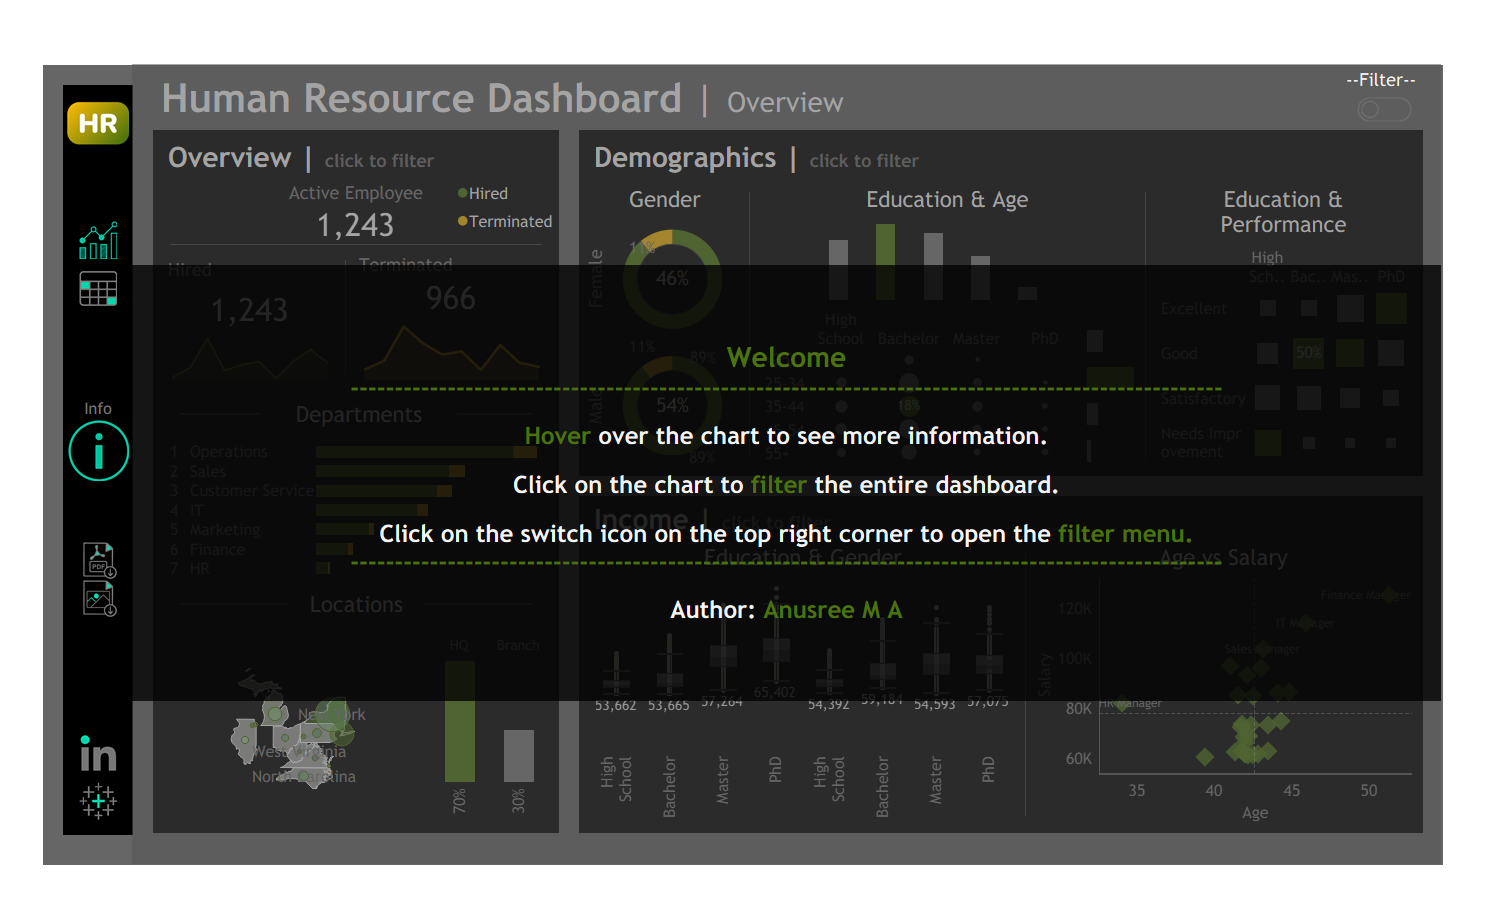

The dashboard page shown, as its layout file describes it:
{"tool":"tableau","page":{"name":"HR","canvas":[1400,800],"ordinal":0},"visuals":[{"type":"text","box":[110,0,823,65]},{"type":"blank","box":[933,0,447,65]},{"type":"text","box":[1299,0,100,30]},{"type":"filter","title":"Gender vs education ","param":"[federated.0q2gh4h1n235b5190az610rpepij].[none:Gender:nk]","box":[930,2,112,58]},{"type":"filter","title":"Gender vs education ","param":"[federated.0q2gh4h1n235b5190az610rpepij].[none:Calculation_1044828008271874:nk]","box":[1042,2,111,58]},{"type":"filter","title":"Gender vs education ","param":"[federated.0q2gh4h1n235b5190az610rpepij].[none:Calculation_1919764739563520:nk]","box":[1153,2,111,58]},{"type":"filter","title":"Gender vs education ","param":"[federated.0q2gh4h1n235b5190az610rpepij].[yr:Hiredate:ok]","box":[1264,2,111,58]},{"type":"image","param":"Image/croatia.png","box":[20,20,70,76]},{"type":"dashboard-object","box":[1313,23,56,44]},{"type":"text","box":[117,72,392,41]},{"type":"text","box":[543,72,830,40]},{"type":"blank","box":[20,96,70,60]},{"type":"text","box":[409,104,120,72]},{"type":"text","box":[117,113,392,29]},{"type":"text","box":[543,117,158,34]},{"type":"blank","box":[706,117,1,287]},{"type":"text","box":[712,117,385,34]},{"type":"blank","box":[1102,117,1,287]},{"type":"text","box":[1108,117,265,60]},{"type":"worksheet","title":"Total Active","mark":"Automatic","box":[117,142,392,37]},{"type":"worksheet","title":"Gender","mark":"Pie","rows":["Gender"],"cols":["Calculation_0624264881008641","Calculation_0624264881008641"],"box":[543,151,158,253]},{"type":"worksheet","title":"Total vs Age category","mark":"Bar","rows":["Calculation_1037131389304833"],"cols":["Calculation_0624264885260291"],"box":[712,151,385,88]},{"type":"dashboard-object","box":[20,156,70,38]},{"type":"worksheet","title":"Educational Background","mark":"Square","rows":["Performance Rating"],"cols":["Education Level"],"box":[1108,177,265,227]},{"type":"blank","box":[117,179,392,1]},{"type":"text","box":[117,185,180,40]},{"type":"blank","box":[302,185,1,135]},{"type":"text","box":[308,185,200.9,29]},{"type":"blank","box":[20,194,70,10]},{"type":"text","box":[89,200,1309,436]},{"type":"dashboard-object","box":[20,204,70,38]},{"type":"worksheet","title":"Total Terminated","mark":"Automatic","box":[308,214,200.9,39]},{"type":"worksheet","title":"Total Hired","mark":"Automatic","box":[117,225,180,41]},{"type":"worksheet","title":"Education","mark":"Circle","rows":["Calculation_0624264885260291"],"cols":["Education Level"],"box":[712,239,328,165]},{"type":"worksheet","title":"Total vs Education","mark":"Bar","rows":["Education Level"],"cols":["Calculation_1037131389304833"],"box":[1040,239,57,165]},{"type":"blank","box":[20,242,70,85]},{"type":"worksheet","title":"Terminated Trend","mark":"Line","rows":["Calculation_1037131389579266","Calculation_1037131389579266"],"cols":["Hiredate"],"box":[308,253,200.9,67]},{"type":"worksheet","title":"Hired Trend","mark":"Line","rows":["Calculation_1037131389304833","Calculation_1037131389304833"],"cols":["Hiredate"],"box":[117,266,180,54]},{"type":"text","box":[20,327,70,32]},{"type":"blank","box":[127,330,101,38]},{"type":"text","box":[228,330,176,38]},{"type":"blank","box":[404,330,95,38]},{"type":"dashboard-object","box":[25,348,61,75]},{"type":"blank","box":[20,359,70,107]},{"type":"worksheet","title":"Department vs Job Title","mark":"Bar","rows":["Calculation_1044828005220353","Department"],"cols":["Calculation_1037131389304833"],"box":[117,373,392,144]},{"type":"text","box":[543,438,830,32]},{"type":"text","box":[543,475,434,34]},{"type":"blank","box":[982,475,1,286]},{"type":"text","box":[988,475,385,34]},{"type":"dashboard-object","box":[30,476,50,38]},{"type":"worksheet","title":"Gender vs education ","mark":"Circle","rows":["Salary"],"cols":["Gender","Education Level"],"box":[543,509,434,252]},{"type":"worksheet","title":"Scatter plot","mark":"Shape","rows":["Salary"],"cols":["Calculation_0624264884490242"],"box":[988,509,385,252]},{"type":"dashboard-object","box":[30,514,50,38]},{"type":"blank","box":[127,522,126.7,34]},{"type":"text","box":[253.7,522,118.7,34]},{"type":"blank","box":[372.3,522,126.7,34]},{"type":"blank","box":[30,552,50,117]},{"type":"worksheet","title":"City and State","mark":"Automatic","box":[117,566,266,195]},{"type":"worksheet","title":"Headquarters","mark":"Bar","rows":["Calculation_1037131389304833"],"cols":["Calculation_1044828008271874","Calculation1"],"box":[383,566,126,195]},{"type":"blank","box":[89,636,1309,163]},{"type":"image","param":"Image/contact-linkedin.png","box":[30,669,50,38]},{"type":"image","param":"Image/contact-public.png","box":[20,717,70,38]}]}

Visuals, with their boxes on the page's 1400x800 design canvas (x1, y1, x2, y2). These are canvas units, not pixel positions in the 1489x919 screenshot, which may show the page scaled, cropped or inside an application window:
text: l=110, t=0, r=933, b=65
blank: l=933, t=0, r=1380, b=65
text: l=1299, t=0, r=1399, b=30
"Gender vs education " filter: l=930, t=2, r=1042, b=60
"Gender vs education " filter: l=1042, t=2, r=1153, b=60
"Gender vs education " filter: l=1153, t=2, r=1264, b=60
"Gender vs education " filter: l=1264, t=2, r=1375, b=60
image: l=20, t=20, r=90, b=96
dashboard-object: l=1313, t=23, r=1369, b=67
text: l=117, t=72, r=509, b=113
text: l=543, t=72, r=1373, b=112
blank: l=20, t=96, r=90, b=156
text: l=409, t=104, r=529, b=176
text: l=117, t=113, r=509, b=142
text: l=543, t=117, r=701, b=151
blank: l=706, t=117, r=707, b=404
text: l=712, t=117, r=1097, b=151
blank: l=1102, t=117, r=1103, b=404
text: l=1108, t=117, r=1373, b=177
"Total Active" worksheet: l=117, t=142, r=509, b=179
"Gender" worksheet (Pie marks): l=543, t=151, r=701, b=404
"Total vs Age category" worksheet (Bar marks): l=712, t=151, r=1097, b=239
dashboard-object: l=20, t=156, r=90, b=194
"Educational Background" worksheet (Square marks): l=1108, t=177, r=1373, b=404
blank: l=117, t=179, r=509, b=180
text: l=117, t=185, r=297, b=225
blank: l=302, t=185, r=303, b=320
text: l=308, t=185, r=509, b=214
blank: l=20, t=194, r=90, b=204
text: l=89, t=200, r=1398, b=636
dashboard-object: l=20, t=204, r=90, b=242
"Total Terminated" worksheet: l=308, t=214, r=509, b=253
"Total Hired" worksheet: l=117, t=225, r=297, b=266
"Education" worksheet (Circle marks): l=712, t=239, r=1040, b=404
"Total vs Education" worksheet (Bar marks): l=1040, t=239, r=1097, b=404
blank: l=20, t=242, r=90, b=327
"Terminated Trend" worksheet (Line marks): l=308, t=253, r=509, b=320
"Hired Trend" worksheet (Line marks): l=117, t=266, r=297, b=320
text: l=20, t=327, r=90, b=359
blank: l=127, t=330, r=228, b=368
text: l=228, t=330, r=404, b=368
blank: l=404, t=330, r=499, b=368
dashboard-object: l=25, t=348, r=86, b=423
blank: l=20, t=359, r=90, b=466
"Department vs Job Title" worksheet (Bar marks): l=117, t=373, r=509, b=517
text: l=543, t=438, r=1373, b=470
text: l=543, t=475, r=977, b=509
blank: l=982, t=475, r=983, b=761
text: l=988, t=475, r=1373, b=509
dashboard-object: l=30, t=476, r=80, b=514
"Gender vs education " worksheet (Circle marks): l=543, t=509, r=977, b=761
"Scatter plot" worksheet (Shape marks): l=988, t=509, r=1373, b=761
dashboard-object: l=30, t=514, r=80, b=552
blank: l=127, t=522, r=254, b=556
text: l=254, t=522, r=372, b=556
blank: l=372, t=522, r=499, b=556
blank: l=30, t=552, r=80, b=669
"City and State" worksheet: l=117, t=566, r=383, b=761
"Headquarters" worksheet (Bar marks): l=383, t=566, r=509, b=761
blank: l=89, t=636, r=1398, b=799
image: l=30, t=669, r=80, b=707
image: l=20, t=717, r=90, b=755
